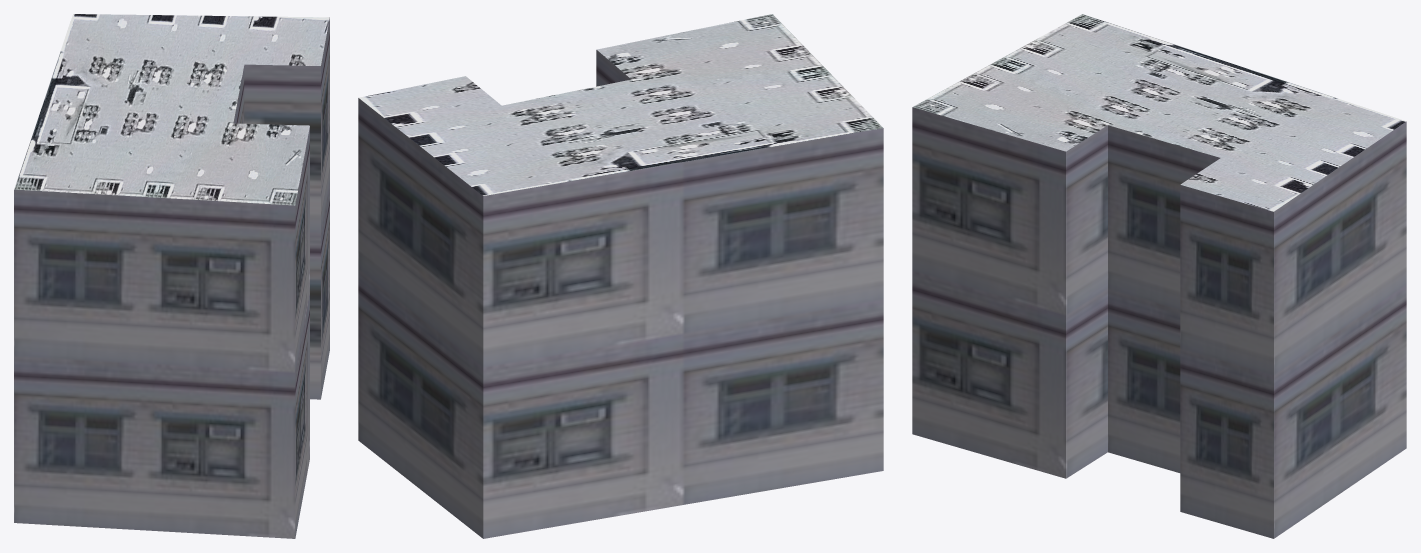
File: ResTex__3388.fbx
3 renders of one model, left to right at view 1: azimuth 30°, elevation 25°; view 2: azimuth 150°, elevation 25°; view 3: azimuth 270°, elevation 25°, orthographic. The views are drawn at different scales.
Visible parts, largest first — view 1: CityEngineMaterial_1_m, CityEngineMaterial_4_m; view 2: CityEngineMaterial_1_m, CityEngineMaterial_4_m; view 3: CityEngineMaterial_1_m, CityEngineMaterial_4_m.
Boxes of the visible parts, <box> form: CityEngineMaterial_1_m: <box>14,17,329,538</box>; CityEngineMaterial_4_m: <box>14,14,329,205</box>; CityEngineMaterial_1_m: <box>358,50,883,538</box>; CityEngineMaterial_4_m: <box>358,14,882,195</box>; CityEngineMaterial_1_m: <box>912,107,1406,538</box>; CityEngineMaterial_4_m: <box>912,14,1405,211</box>.
Bounding box in the file's own units: 7.78 × 6 × 8.21.
Materials: 2 (2 with a texture image).
